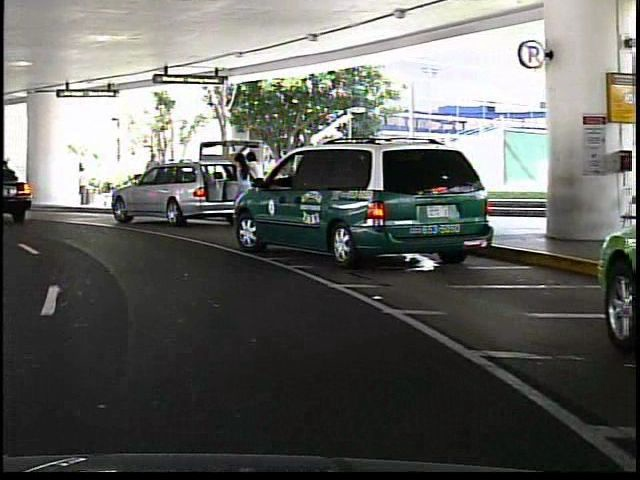person: (140, 149, 160, 203), (229, 148, 249, 197)
